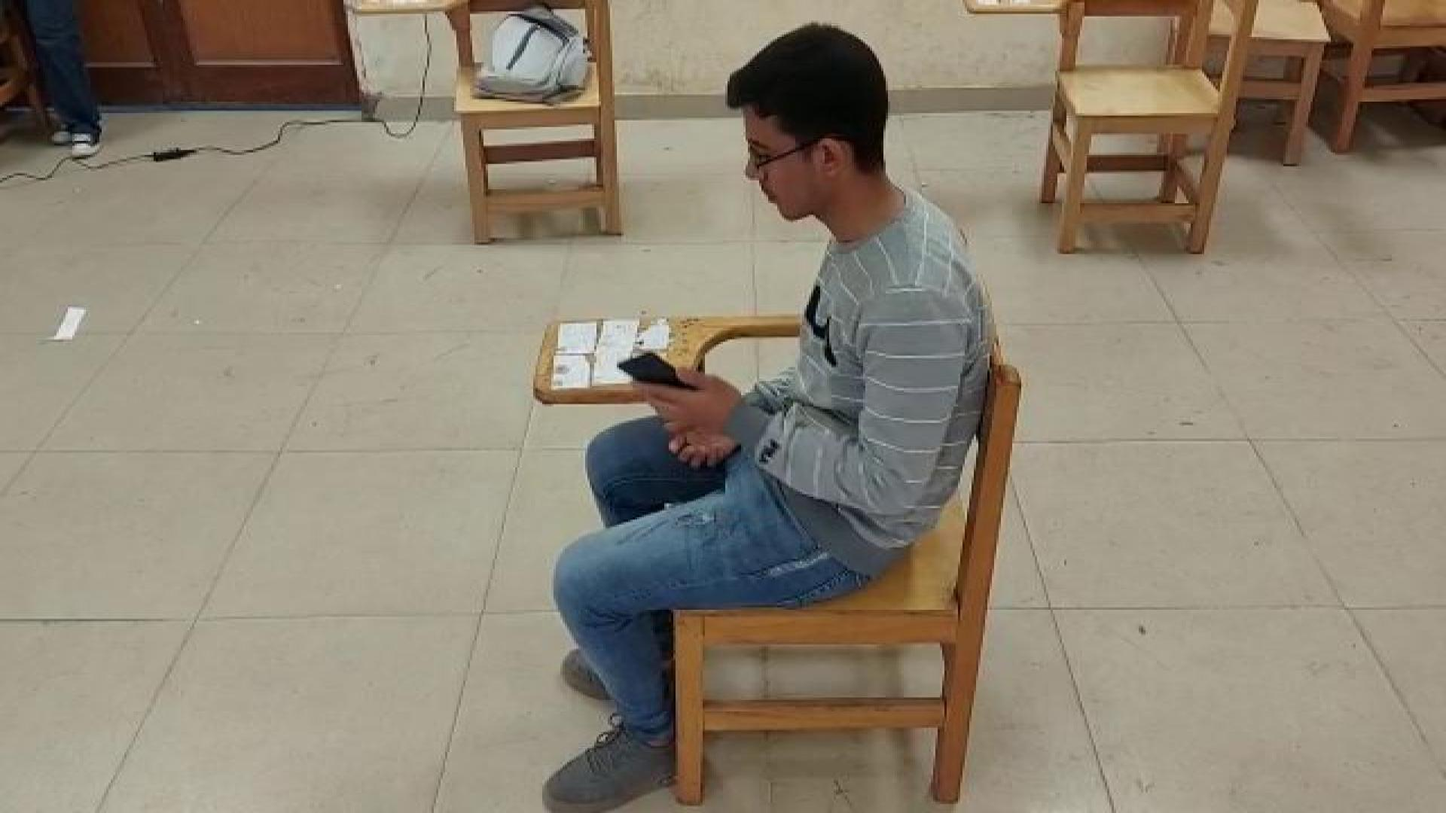phone: (612, 349, 718, 419)
